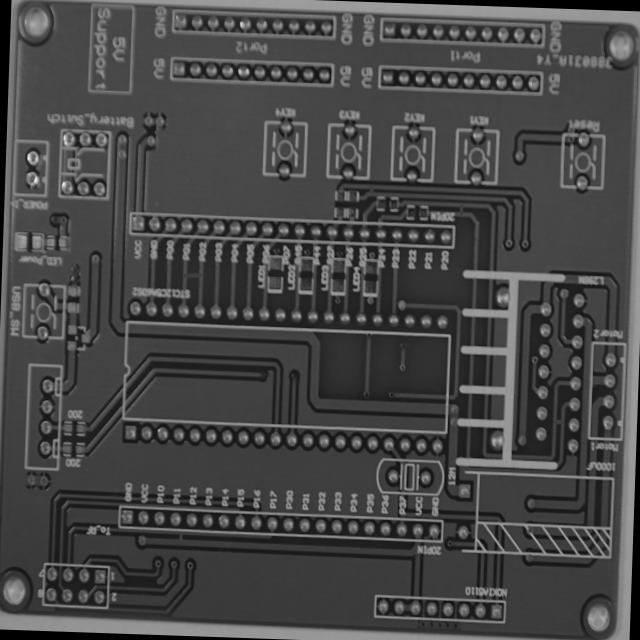short: (180, 266, 206, 284), (173, 526, 190, 549), (549, 410, 567, 430), (451, 202, 468, 220), (362, 181, 378, 200)
